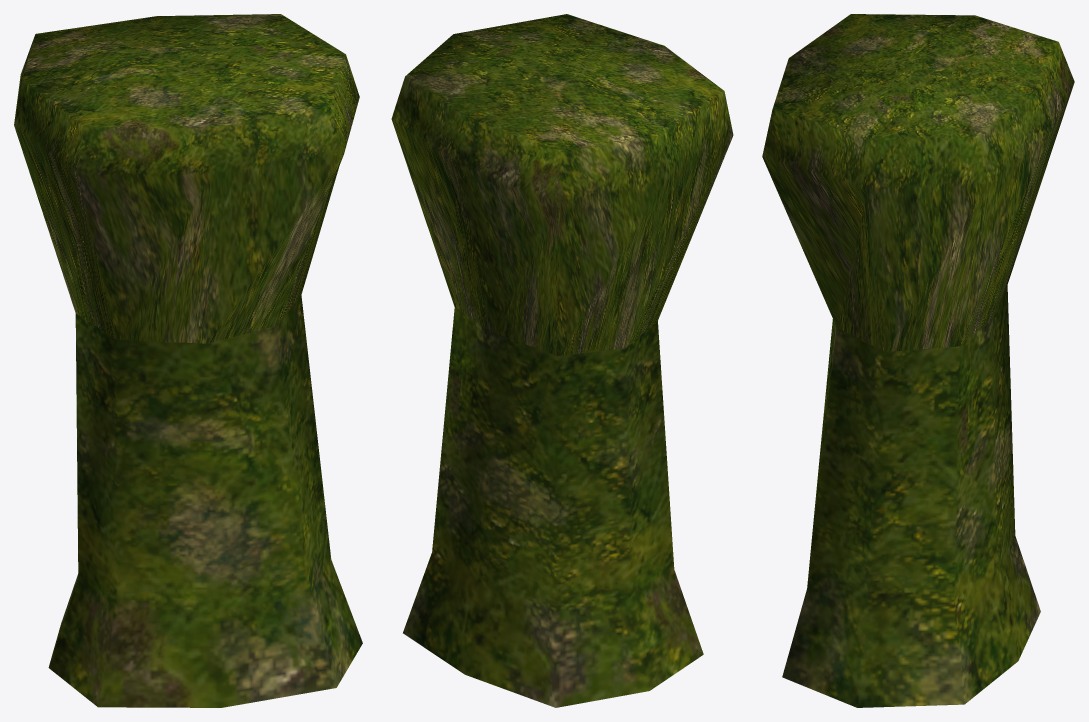
The model's file is OVERHILL_A_01_PLATFORM_501.fbx.
3 views of the same model, side by side, from view 1: azimuth 30°, elevation 25°; view 2: azimuth 150°, elevation 25°; view 3: azimuth 270°, elevation 25° (orthographic). The views are drawn at different scales.
Visible parts, largest first — view 1: OVERHILL_A_01_PLATFORM_501; view 2: OVERHILL_A_01_PLATFORM_501; view 3: OVERHILL_A_01_PLATFORM_501.
Part boxes in pixels (<box>): OVERHILL_A_01_PLATFORM_501: <box>14,14,362,707</box>; OVERHILL_A_01_PLATFORM_501: <box>391,14,733,707</box>; OVERHILL_A_01_PLATFORM_501: <box>762,14,1074,707</box>.
Size of the model in its own units: 13598 by 26665 by 13134.
Materials: 1 (1 with a texture image).
